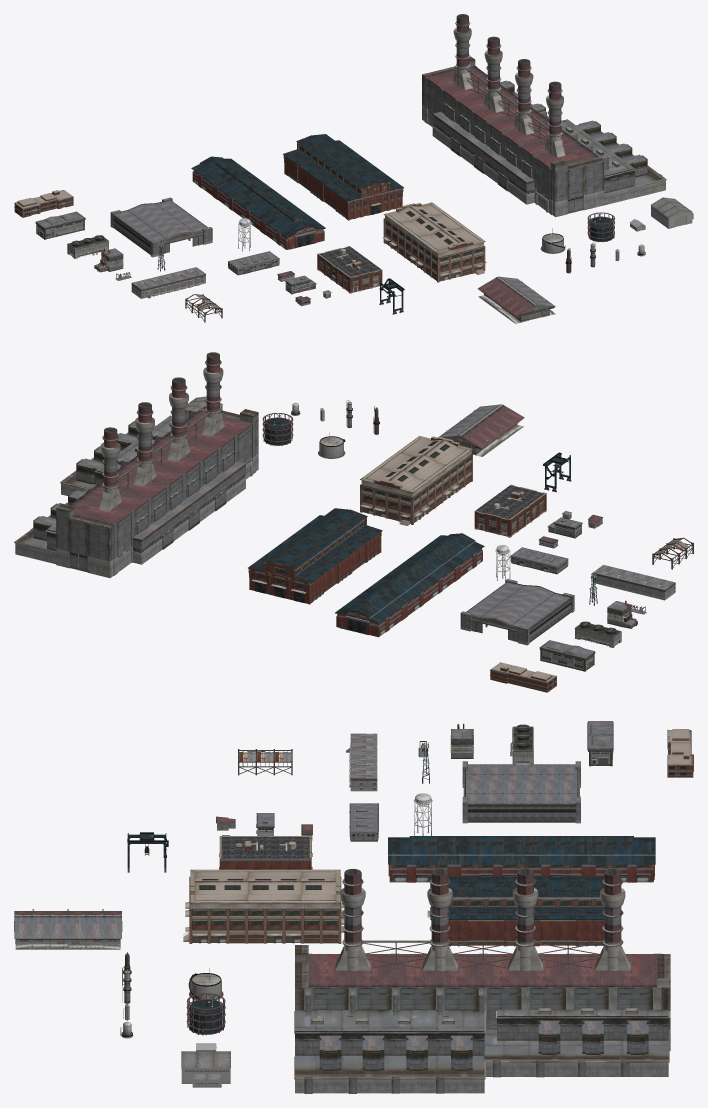
The model's file is b_industrial.glb.
3 views of the same model, one above another, from view 1: azimuth 30°, elevation 25°; view 2: azimuth 150°, elevation 25°; view 3: azimuth 270°, elevation 25° (orthographic). The views are drawn at different scales.
Parts seen in each view (by area): view 1: Industrial_Powerplant_1_Industrial_Walls_FLR_1_0, Industrial_Building_10_Material #2_0, Industrial_FactoryPlant_2_Industrial_Walls_FLR_2_Dif_0, Industrial_Hangar_2_Industrial_Walls_FLR_1_0, Industrial_FactoryPlant_1_Industrial_Walls_FLR_2_0, Industrial_FactoryPlant_1_Industrial_Facade_Flr_1_0, Industrial_FactoryPlant_2_Industrial_Facade_Flr_1_0, Industrial_Warehouse_5_Industrial_Walls_FLR_1_0, Industrial_Building_1_Industrial_Facade_Flr_1_0, Industrial_LogisticTerminal_1_Industrial_Walls_FLR_1_0, Industrial_Warehouse_4_Industrial_Facade_Flr_1_0, Industrial_Warehouse_1_Industrial_Walls_FLR_1_0 (+9 smaller); view 2: Industrial_Powerplant_1_Industrial_Walls_FLR_1_0, Industrial_Building_10_Material #2_0, Industrial_FactoryPlant_2_Industrial_Walls_FLR_2_Dif_0, Industrial_FactoryPlant_1_Industrial_Walls_FLR_2_0, Industrial_Hangar_2_Industrial_Walls_FLR_1_0, Industrial_FactoryPlant_1_Industrial_Facade_Flr_1_0, Industrial_FactoryPlant_2_Industrial_Facade_Flr_1_0, Industrial_Warehouse_5_Industrial_Walls_FLR_1_0, Industrial_Building_1_Industrial_Facade_Flr_1_0, Industrial_LogisticTerminal_1_Industrial_Walls_FLR_1_0, Industrial_Warehouse_4_Industrial_Facade_Flr_1_0, Industrial_Warehouse_1_Industrial_Walls_FLR_1_0 (+6 smaller); view 3: Industrial_Powerplant_1_Industrial_Walls_FLR_1_0, Industrial_Building_10_Material #2_0, Industrial_Hangar_2_Industrial_Walls_FLR_1_0, Industrial_FactoryPlant_2_Industrial_Walls_FLR_2_Dif_0, Industrial_FactoryPlant_2_Industrial_Facade_Flr_1_0, Industrial_FactoryPlant_1_Industrial_Facade_Flr_1_0, Industrial_FactoryPlant_1_Industrial_Walls_FLR_2_0, Industrial_Warehouse_5_Industrial_Walls_FLR_1_0, Industrial_Building_1_Industrial_Roof_1_0, Industrial_Building_1_Industrial_Facade_Flr_1_0, Industrial_LogisticTerminal_1_Industrial_Walls_FLR_1_0, Industrial_Tank_2_Industrial_Walls_FLR_2_0 (+11 smaller).
Boxes of the visible parts, x1,y1,x2,y2 form: Industrial_Powerplant_1_Industrial_Walls_FLR_1_0: (422,14,666,217); Industrial_Building_10_Material #2_0: (382,202,486,282); Industrial_FactoryPlant_2_Industrial_Walls_FLR_2_Dif_0: (191,156,325,247); Industrial_Hangar_2_Industrial_Walls_FLR_1_0: (110,197,212,257); Industrial_FactoryPlant_1_Industrial_Walls_FLR_2_0: (283,134,403,214); Industrial_FactoryPlant_1_Industrial_Facade_Flr_1_0: (283,142,403,220); Industrial_FactoryPlant_2_Industrial_Facade_Flr_1_0: (192,162,324,249); Industrial_Warehouse_5_Industrial_Walls_FLR_1_0: (477,276,555,321); Industrial_Building_1_Industrial_Facade_Flr_1_0: (317,246,382,293); Industrial_LogisticTerminal_1_Industrial_Walls_FLR_1_0: (131,267,205,298); Industrial_Warehouse_4_Industrial_Facade_Flr_1_0: (14,190,73,217); Industrial_Warehouse_1_Industrial_Walls_FLR_1_0: (35,211,85,239); Industrial_Powerplant_1_Industrial_Walls_FLR_1_0: (14,352,258,577); Industrial_Building_10_Material #2_0: (360,436,473,525); Industrial_FactoryPlant_2_Industrial_Walls_FLR_2_Dif_0: (335,533,484,634); Industrial_FactoryPlant_1_Industrial_Walls_FLR_2_0: (248,508,382,602); Industrial_Hangar_2_Industrial_Walls_FLR_1_0: (460,579,574,645); Industrial_FactoryPlant_1_Industrial_Facade_Flr_1_0: (248,517,381,604); Industrial_FactoryPlant_2_Industrial_Facade_Flr_1_0: (336,540,482,637); Industrial_Warehouse_5_Industrial_Walls_FLR_1_0: (438,404,524,454); Industrial_Building_1_Industrial_Facade_Flr_1_0: (474,484,546,537); Industrial_LogisticTerminal_1_Industrial_Walls_FLR_1_0: (592,565,675,600); Industrial_Warehouse_4_Industrial_Facade_Flr_1_0: (490,662,556,692); Industrial_Warehouse_1_Industrial_Walls_FLR_1_0: (539,640,595,671); Industrial_Powerplant_1_Industrial_Walls_FLR_1_0: (294,868,670,1093); Industrial_Building_10_Material #2_0: (183,869,344,943); Industrial_Hangar_2_Industrial_Walls_FLR_1_0: (462,761,580,823); Industrial_FactoryPlant_2_Industrial_Walls_FLR_2_Dif_0: (388,836,655,864); Industrial_FactoryPlant_2_Industrial_Facade_Flr_1_0: (388,842,655,882); Industrial_FactoryPlant_1_Industrial_Facade_Flr_1_0: (427,897,604,946); Industrial_FactoryPlant_1_Industrial_Walls_FLR_2_0: (430,876,604,919); Industrial_Warehouse_5_Industrial_Walls_FLR_1_0: (14,909,122,947); Industrial_Building_1_Industrial_Roof_1_0: (221,837,309,858); Industrial_Building_1_Industrial_Facade_Flr_1_0: (219,836,312,869); Industrial_LogisticTerminal_1_Industrial_Walls_FLR_1_0: (350,733,377,791); Industrial_Tank_2_Industrial_Walls_FLR_2_0: (186,993,225,1035).
Size of the model in its own units: 427 by 90.62 by 345.
9 materials, 9 textured.
